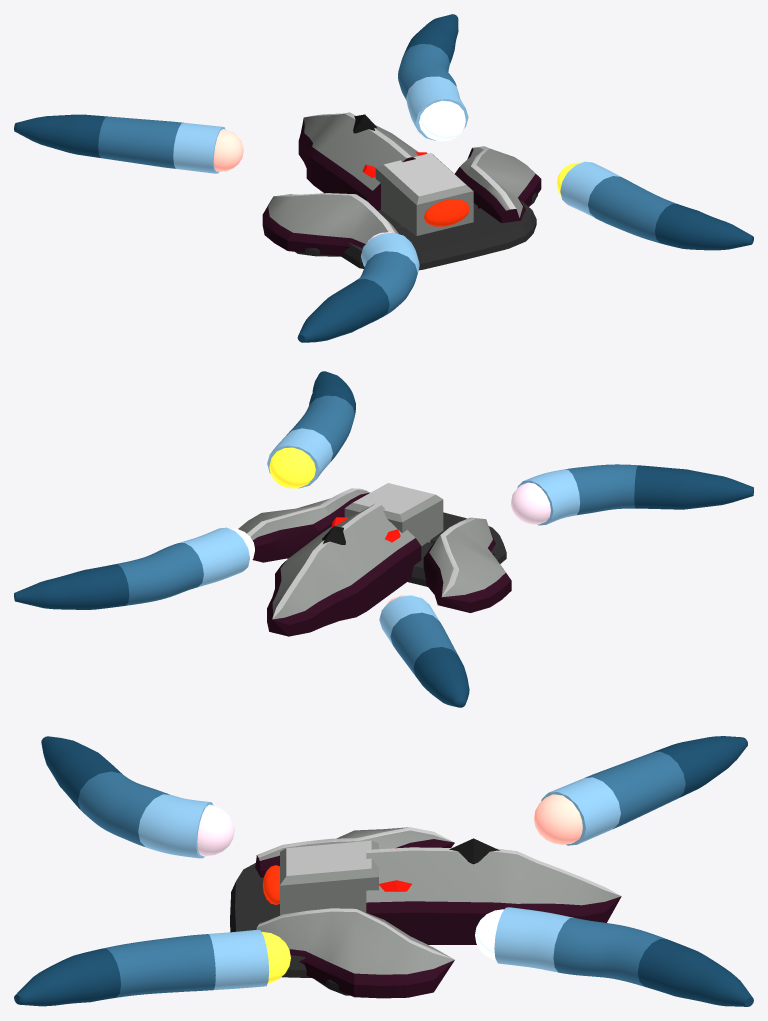
Rendered from pu_attractor.glb.
3 renders of one model, top to bottom at view 1: azimuth 30°, elevation 25°; view 2: azimuth 150°, elevation 25°; view 3: azimuth 270°, elevation 25°, orthographic. The views are drawn at different scales.
Parts seen in each view (by area): view 1: needle0, needle2, spire, needle3, blade_left, block, base_rear, needle1, blade_right, cap1, cap0, exhaust; view 2: spire, needle1, needle3, blade_left, needle0, needle2, blade_right, block, cap2, cap3, base_rear; view 3: spire, needle1, needle2, blade_right, needle3, needle0, block, blade_left, base_rear, cap0, cap3, cap2 (+3 smaller).
Boxes of the visible parts, box(x1,y1,x2,y2) form: needle0: box(14, 114, 225, 173); needle2: box(560, 161, 753, 250); spire: box(298, 112, 418, 210); needle3: box(297, 232, 419, 342); blade_left: box(262, 193, 398, 256); block: box(375, 153, 473, 235); base_rear: box(341, 200, 536, 270); needle1: box(398, 14, 468, 140); blade_right: box(455, 146, 541, 223); cap1: box(419, 100, 465, 141); cap0: box(214, 129, 243, 171); exhaust: box(424, 199, 469, 226); spire: box(267, 503, 421, 636); needle1: box(14, 527, 249, 609); needle3: box(517, 464, 753, 525); blade_left: box(423, 517, 511, 612); needle0: box(379, 595, 469, 707); needle2: box(267, 371, 355, 488); blade_right: box(238, 488, 369, 562); block: box(344, 483, 443, 546); cap2: box(269, 447, 315, 488); cap3: box(511, 482, 550, 524); base_rear: box(430, 512, 506, 563); spire: box(366, 847, 621, 944); needle1: box(494, 907, 753, 1006); needle2: box(14, 929, 269, 1006); blade_right: box(256, 908, 454, 998); needle3: box(41, 736, 213, 858); needle0: box(541, 736, 747, 845); block: box(280, 840, 378, 915); blade_left: box(255, 827, 454, 877); base_rear: box(230, 863, 311, 977); cap0: box(534, 794, 582, 844); cap3: box(197, 804, 234, 856); cap2: box(261, 932, 290, 983).
Bounding box in the file's own units: 22.74 × 3.48 × 26.96.
